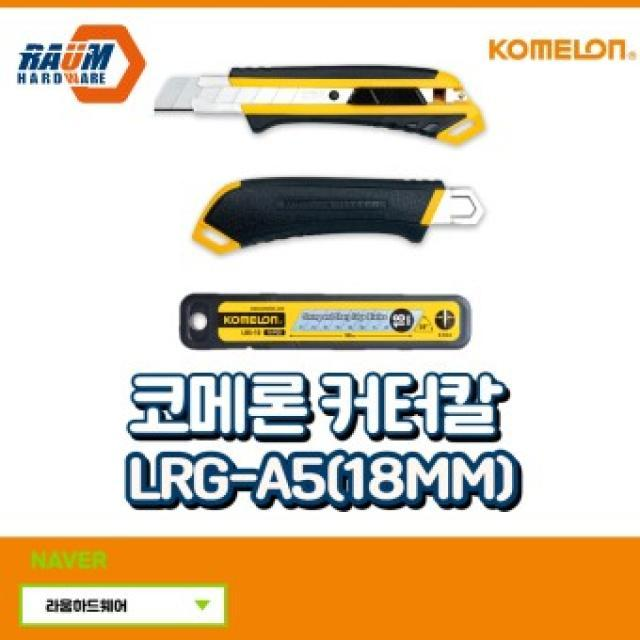cutter: (152, 32, 506, 164), (175, 165, 498, 276)
